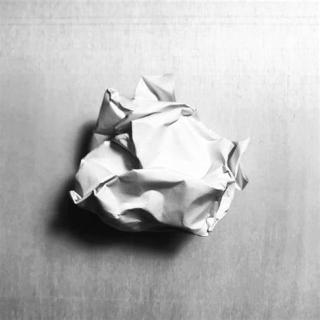Anorganik: (59, 70, 257, 252)
